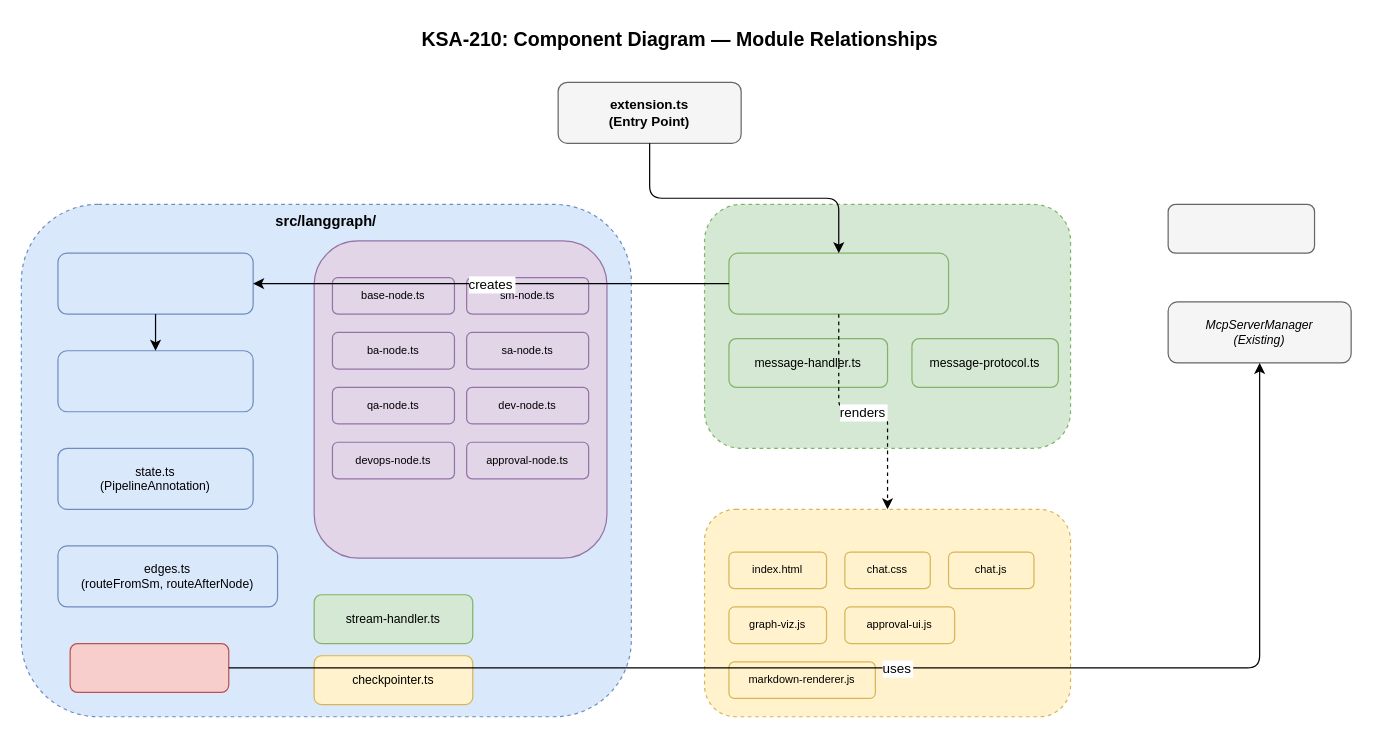
Image size: 1373x738. Some labels were removed from this diagram. Each missing label, with the box of its shape:
chat-panel-provider.ts (WebviewViewProvider): (728, 252, 949, 314)
graph-builder.ts (buildPipelineGraph): (57, 350, 253, 412)
langgraph-engine.ts (LangGraphEngine): (57, 252, 253, 314)
mcp-bridge.ts: (69, 642, 229, 692)
nodes/: (313, 240, 607, 558)
src/chat-panel/: (703, 203, 1071, 448)
types.ts (Extended): (1167, 203, 1315, 253)
webview-assets/chat/: (703, 508, 1071, 717)
